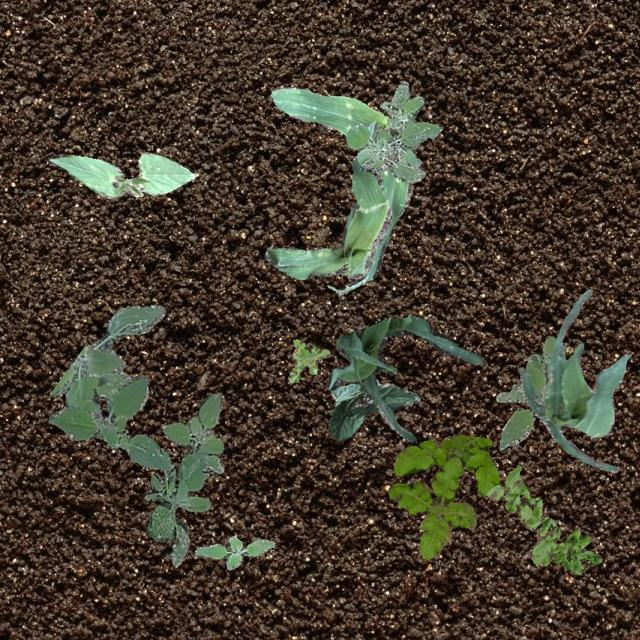crop: (269, 86, 412, 296), (518, 288, 630, 472), (326, 314, 484, 440), (264, 156, 391, 278), (48, 152, 194, 198), (328, 378, 418, 440)
weed: (48, 374, 224, 566), (386, 434, 498, 558), (49, 304, 164, 416), (484, 464, 600, 574), (495, 336, 565, 448), (344, 120, 440, 182), (377, 80, 422, 168), (194, 534, 274, 570), (286, 338, 328, 382)
